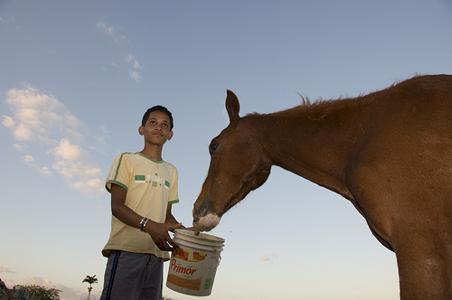person: (98, 106, 201, 300)
